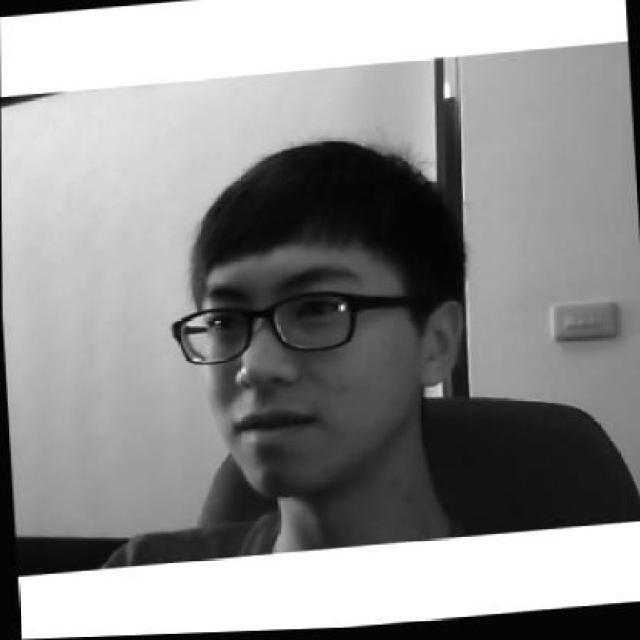attentif: (160, 129, 472, 508)
